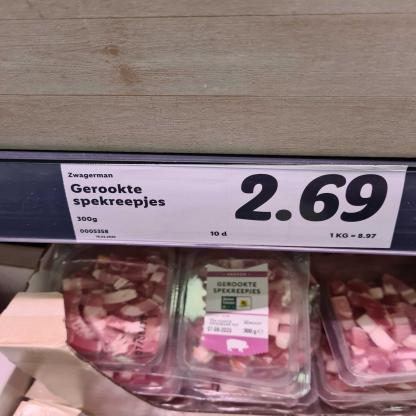prtg: (61, 164, 409, 250)
